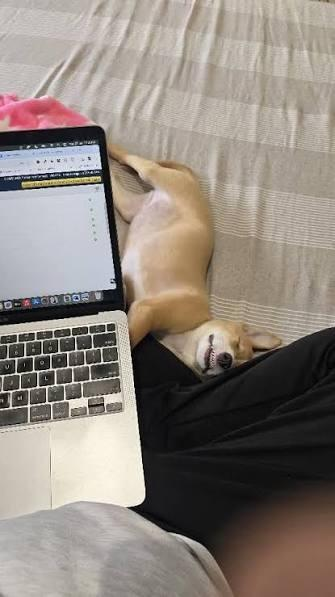puppy-dog: (107, 141, 284, 386)
